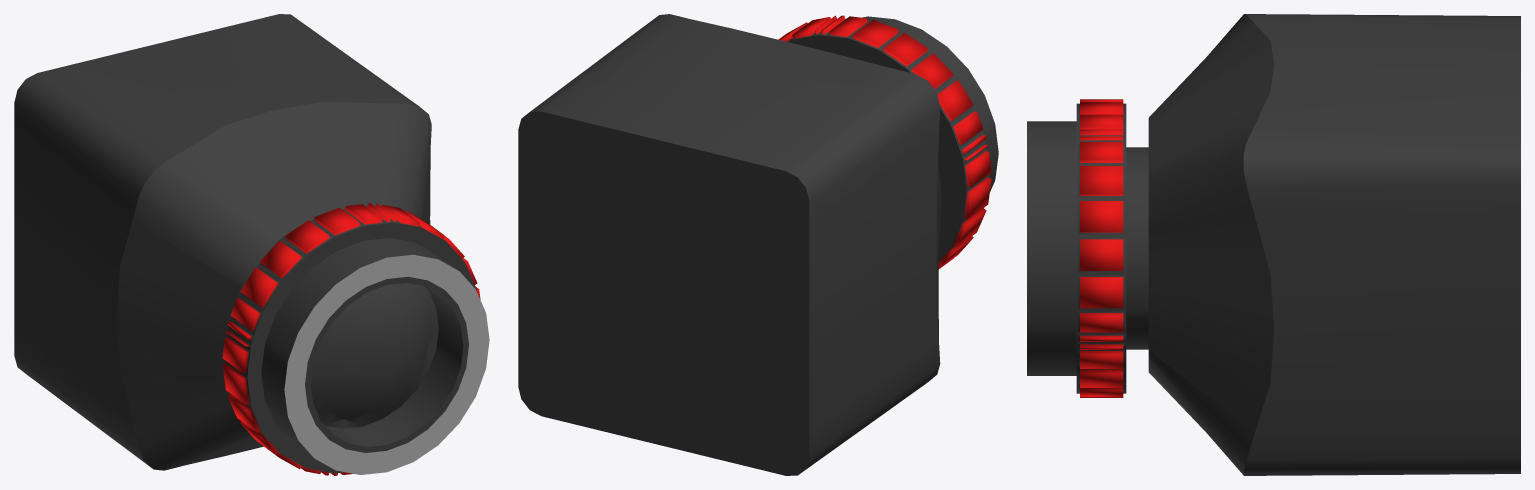
The model's file is Cam3.gltf.
3 views of the same model, side by side, from view 1: azimuth 30°, elevation 25°; view 2: azimuth 150°, elevation 25°; view 3: azimuth 270°, elevation 25° (orthographic). The views are drawn at different scales.
Parts seen in each view (by area): view 1: Camara_2; view 2: Camara_2; view 3: Camara_2.
Boxes of the visible parts, <box> form: Camara_2: <box>14,14,489,475</box>; Camara_2: <box>518,14,998,475</box>; Camara_2: <box>1027,14,1520,475</box>.
Bounding box in the file's own units: 0.2672 × 0.2738 × 0.3397.
